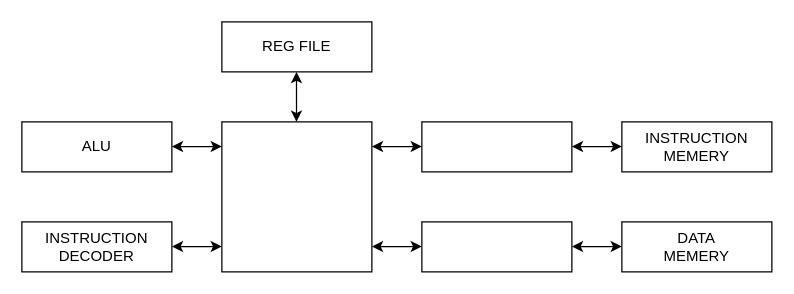
This 794x294 diagram has some shape labels left out. The centre of each missing label's shape, as x and y in pixels:
"CONTROL UNIT" goes at point 296,196.
"DATA CACHE" goes at point 496,246.
"INSTRUCTION CACHE" goes at point 496,146.
